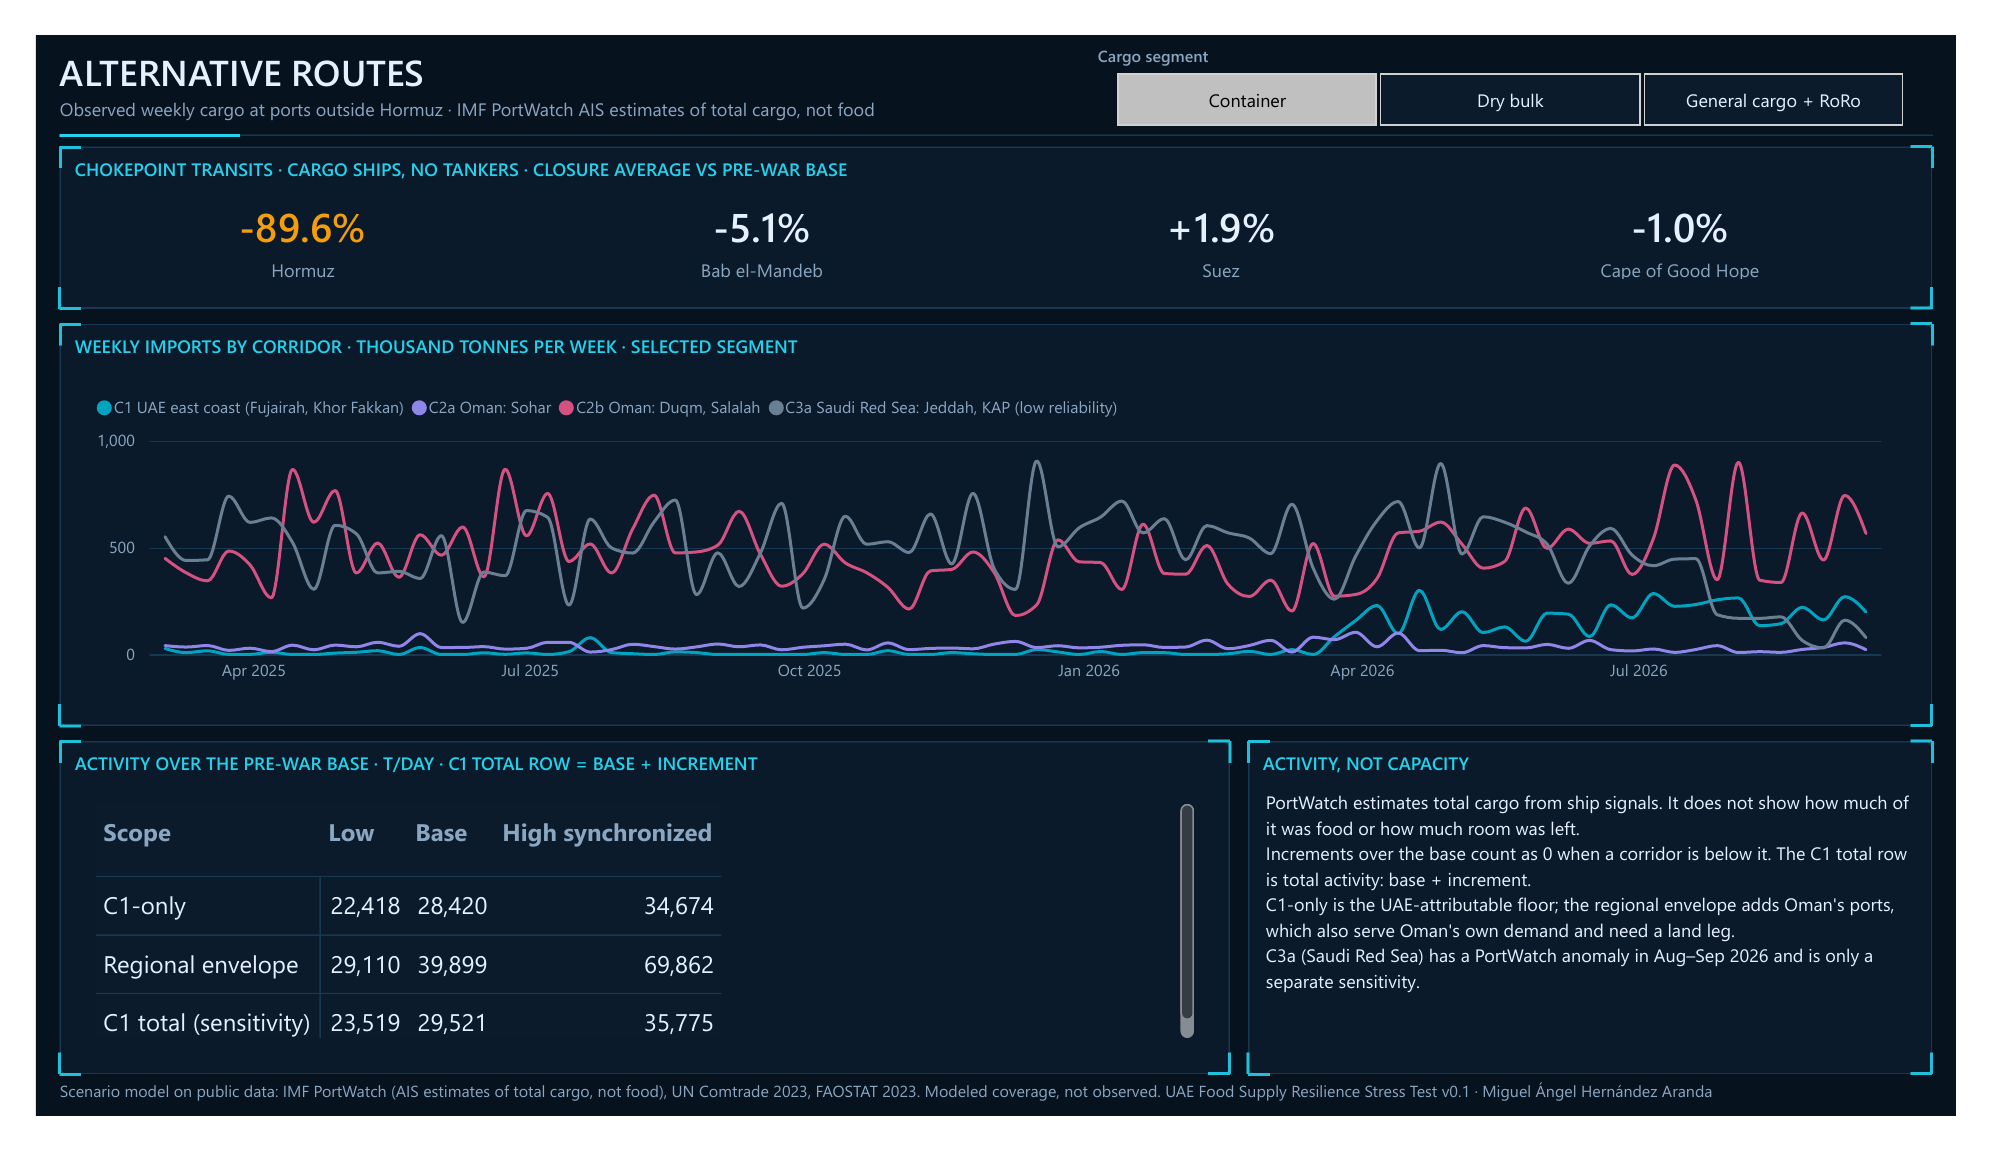

Layout of this report page (visuals, bound fields, positions):
{"tool":"powerbi","page":{"name":"Alternative routes","canvas":[1280,720],"ordinal":1},"visuals":[{"type":"textbox","box":[16,8,640,34],"z":0},{"type":"textbox","box":[16,40,640,22],"z":1000},{"type":"textbox","box":[16,694,1248,24],"z":2000},{"type":"slicer","fields":{"Values":["segments.segment_name"]},"box":[700,6,564,56],"z":3000},{"type":"textbox","box":[26,80,1228,26],"z":4000},{"type":"card","fields":{"Values":["_Measures.Transit change vs base"]},"box":[28,96,300,82],"z":5000},{"type":"card","fields":{"Values":["_Measures.Transit change vs base"]},"box":[334,96,300,82],"z":6000},{"type":"card","fields":{"Values":["_Measures.Transit change vs base"]},"box":[640,96,300,82],"z":7000},{"type":"card","fields":{"Values":["_Measures.Transit change vs base"]},"box":[946,96,300,82],"z":8000},{"type":"textbox","box":[26,198,1228,26],"z":9000},{"type":"lineChart","fields":{"Category":["corridor_weekly.week"],"Series":["corridor_weekly.corridor"],"Y":["_Measures.Weekly imports (kt)"]},"box":[24,220,1232,232],"z":10000},{"type":"textbox","box":[26,476,760,26],"z":11000},{"type":"pivotTable","fields":{"Columns":["scenarios.activity_level"],"Rows":["scenarios.scope"],"Values":["_Measures.Increment (t/d)"]},"box":[24,498,764,186],"z":12000},{"type":"textbox","box":[818,476,436,26],"z":13000},{"type":"textbox","box":[820,502,432,178],"z":14000}]}

Visuals, with their boxes in screenshot pixels (x1, y1, x2, y2), scaled from the page's 1280x720 canvas onto the 1992x1152 screenshot:
textbox: crop(25, 13, 1021, 67)
textbox: crop(25, 64, 1021, 99)
textbox: crop(25, 1110, 1967, 1149)
slicer - segments.segment_name: crop(1089, 10, 1967, 99)
textbox: crop(40, 128, 1952, 170)
card - _Measures.Transit change vs base: crop(44, 154, 510, 285)
card - _Measures.Transit change vs base: crop(520, 154, 987, 285)
card - _Measures.Transit change vs base: crop(996, 154, 1463, 285)
card - _Measures.Transit change vs base: crop(1472, 154, 1939, 285)
textbox: crop(40, 317, 1952, 358)
lineChart - corridor_weekly.week x corridor_weekly.corridor: crop(37, 352, 1955, 723)
textbox: crop(40, 762, 1223, 803)
pivotTable - scenarios.activity_level x scenarios.scope: crop(37, 797, 1226, 1094)
textbox: crop(1273, 762, 1952, 803)
textbox: crop(1276, 803, 1948, 1088)
